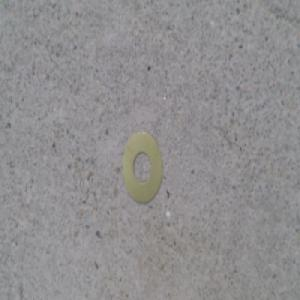Washer: (120, 131, 161, 201)
